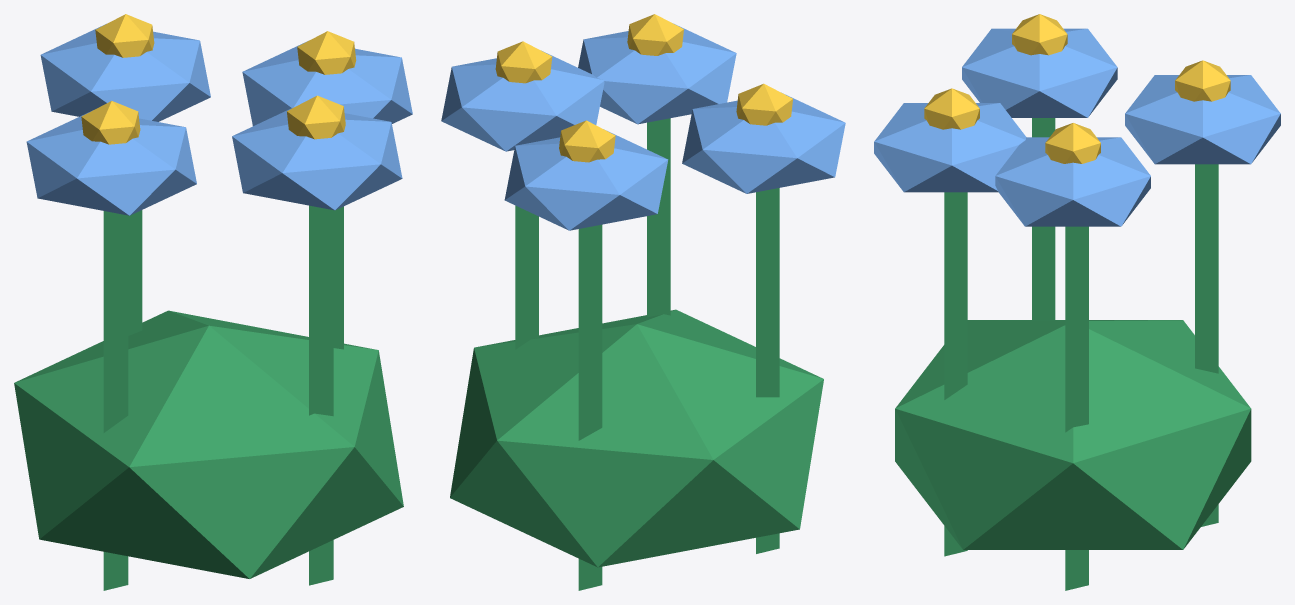
The model's file is flower_blue.glb.
3 renders of one model, left to right at view 1: azimuth 30°, elevation 25°; view 2: azimuth 150°, elevation 25°; view 3: azimuth 270°, elevation 25°, orthographic. The views are drawn at different scales.
Parts seen in each view (by area): view 1: flower_blue; view 2: flower_blue; view 3: flower_blue.
Boxes of the visible parts, x1,y1,x2,y2 form: flower_blue: [14, 14, 412, 590]; flower_blue: [441, 14, 845, 590]; flower_blue: [874, 14, 1280, 590].
Bounding box in the file's own units: 0.3219 × 0.406 × 0.3108.
